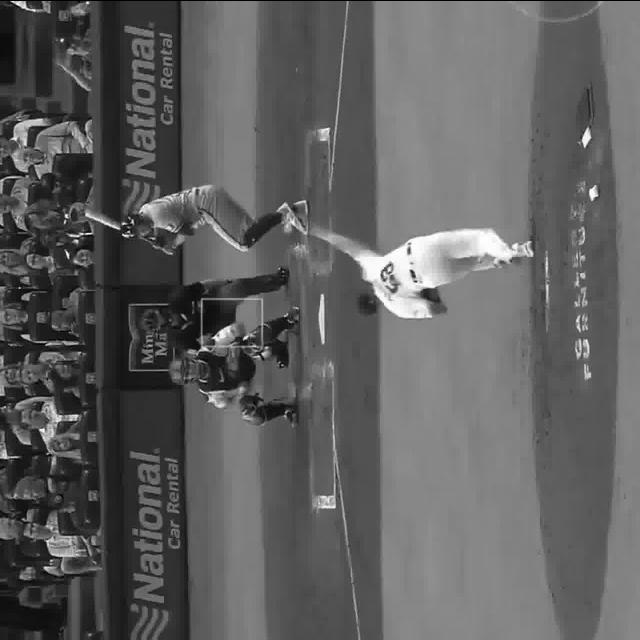base: (316, 292, 328, 342)
baseball_glove: (228, 342, 242, 371)
bat: (86, 203, 176, 255)
shoe: (275, 202, 309, 232), (274, 264, 290, 290), (276, 340, 290, 366), (298, 198, 310, 228), (286, 394, 298, 424), (518, 239, 534, 260), (287, 300, 299, 322)
